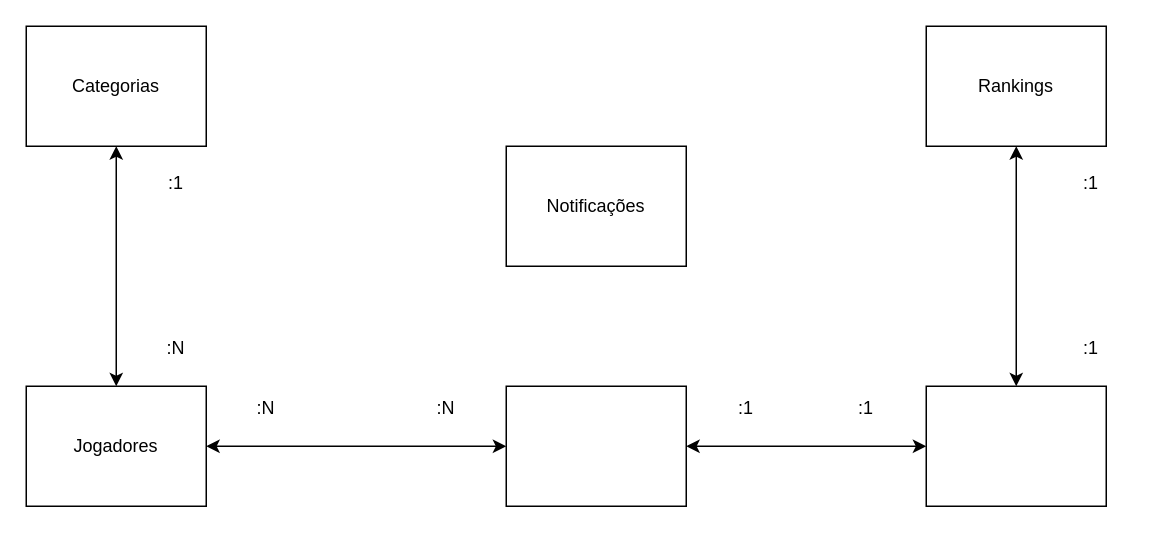
Image size: 1163x533. Some labels were removed from this diagram. Here are the shapes that lost their labels. From the top down, the centre of each, then its label:
At (x=595, y=445): "Desafios".
At (x=1015, y=445): "Partidas".
